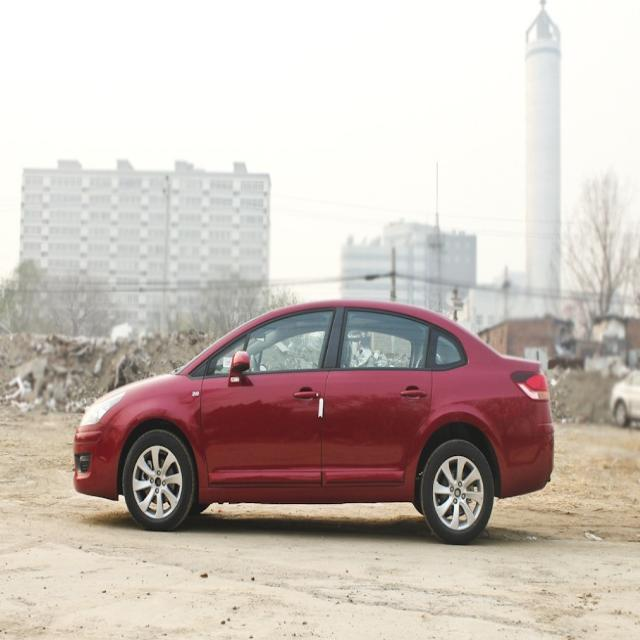back_left_side_light: (509, 369, 551, 403)
door: (332, 306, 439, 494)
front_bumper: (69, 420, 138, 502)
front_left_side_door: (198, 304, 342, 488)
front_left_side_light: (78, 392, 126, 428)
front_left_side_mirror: (230, 349, 250, 381)
rear_bumper: (481, 416, 555, 500)
wheel: (420, 439, 495, 545), (122, 428, 196, 530)
